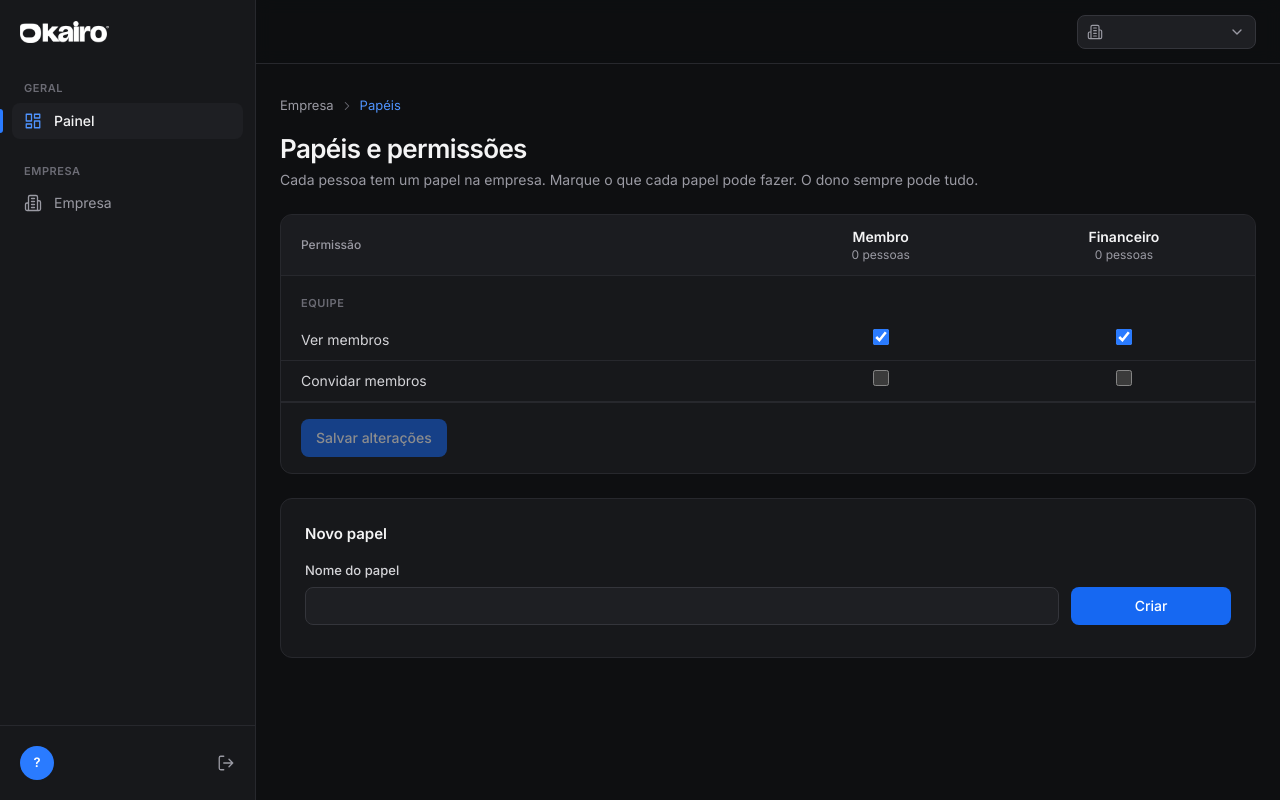
RolesView › salva só os papéis alterados
Expected: the button with test id "save-permissions" is disabled, [301, 419, 447, 457]
Click the checkbox with test id "perm-2-members.invite": (881, 378) [873, 370, 889, 386]
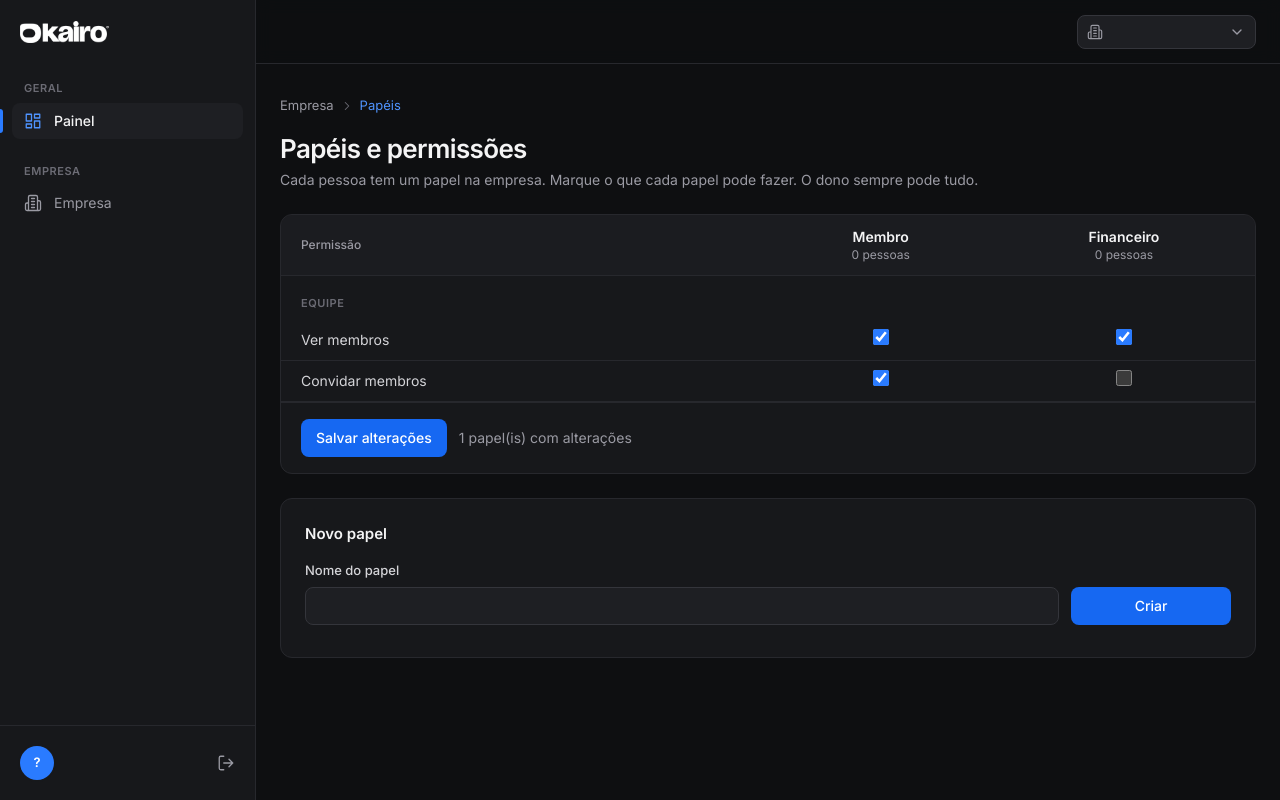
Click the button with test id "save-permissions": (374, 438) [301, 419, 447, 457]
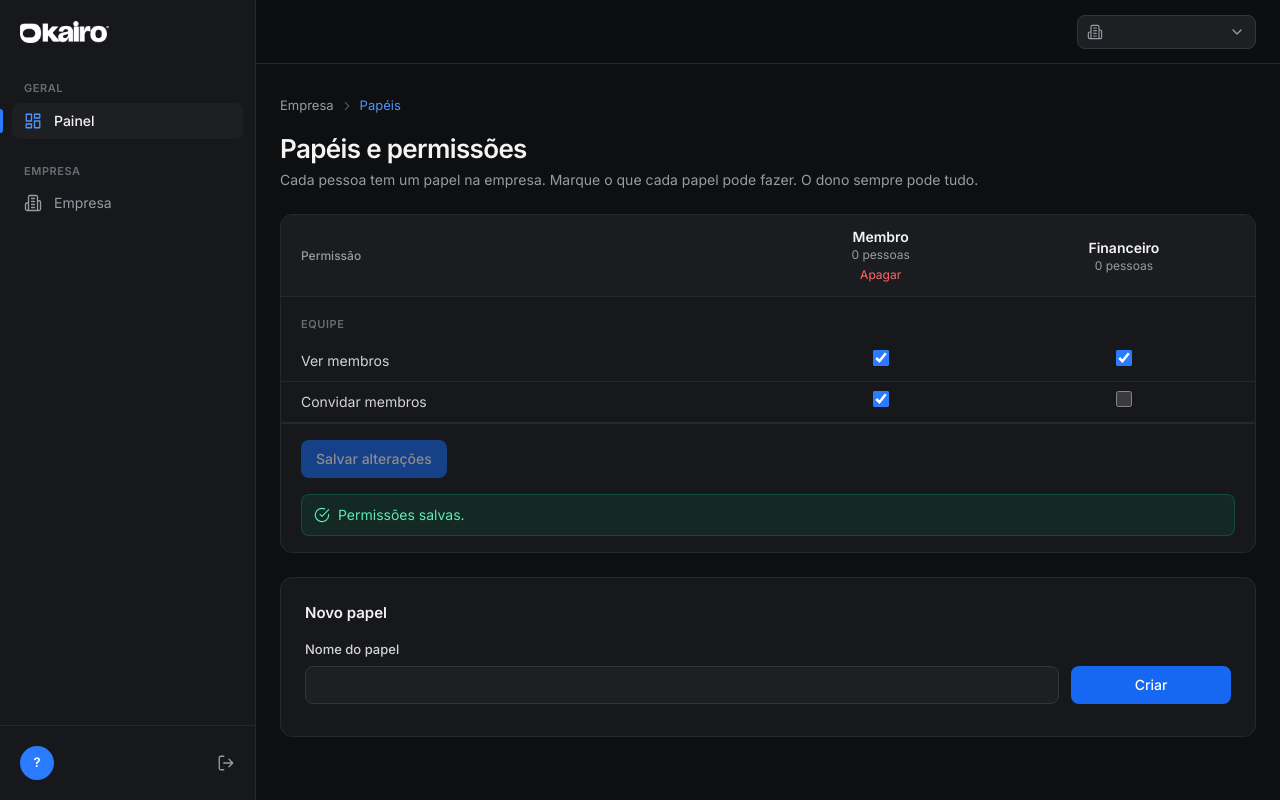
Expected: the text "Permissões salvas." is shown, [338, 505, 465, 525]
